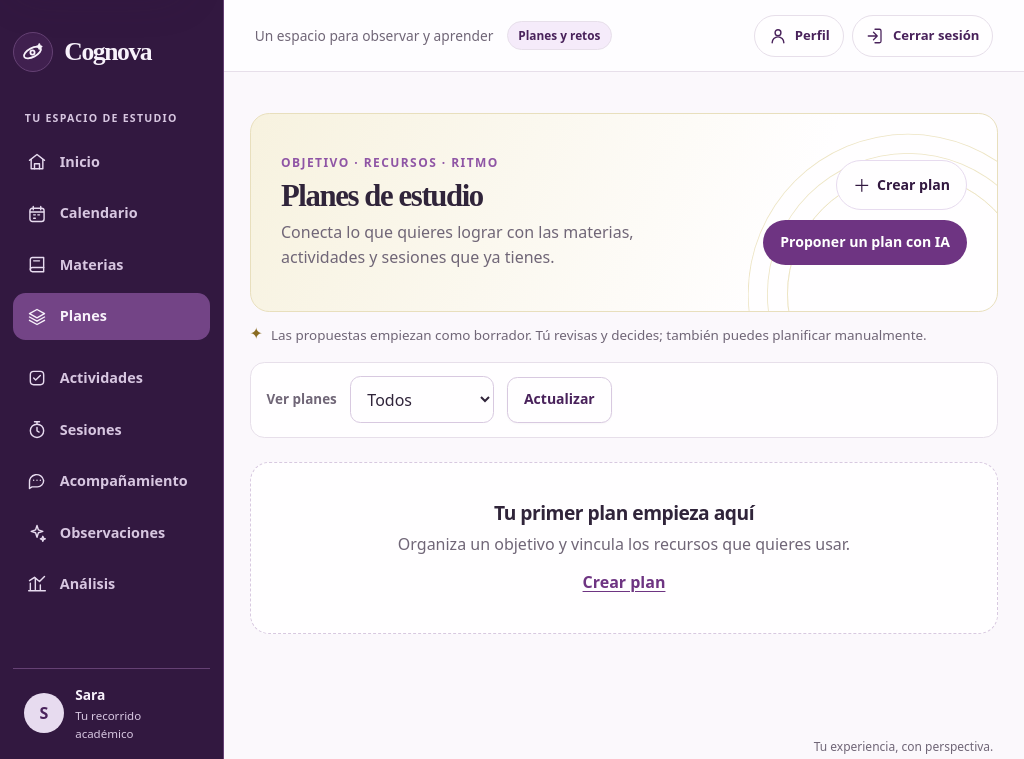
Test: study plans › offers a clear path back from an empty draft filter
The width and height of the screenshot is (1024, 759).
Expected: the heading "Tu primer plan empieza aquí" is shown, [494,499,754,526]
Select "Borrador" in the dropdown labelled "Ver planes" at (422, 400), box [350,376,494,423]
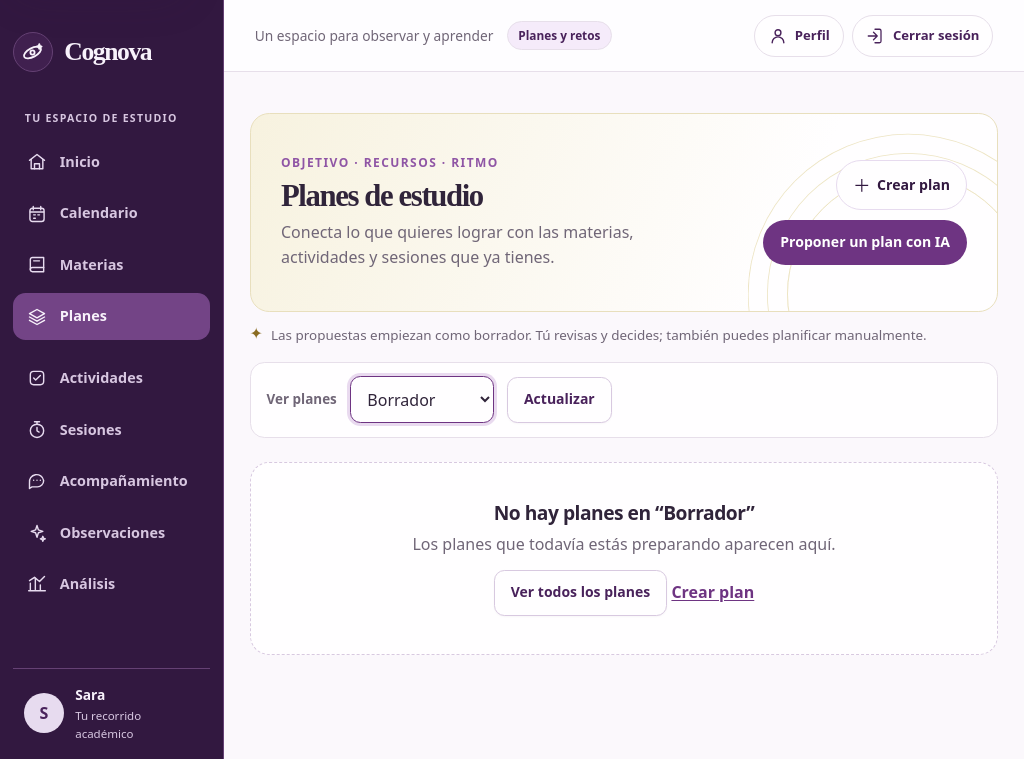
Expected: the text "Los planes que todavía estás preparando aparecen aquí." is shown, [412,533,836,555]
Click the button "Ver todos los planes".
click(580, 592)  # box [494,570,667,616]
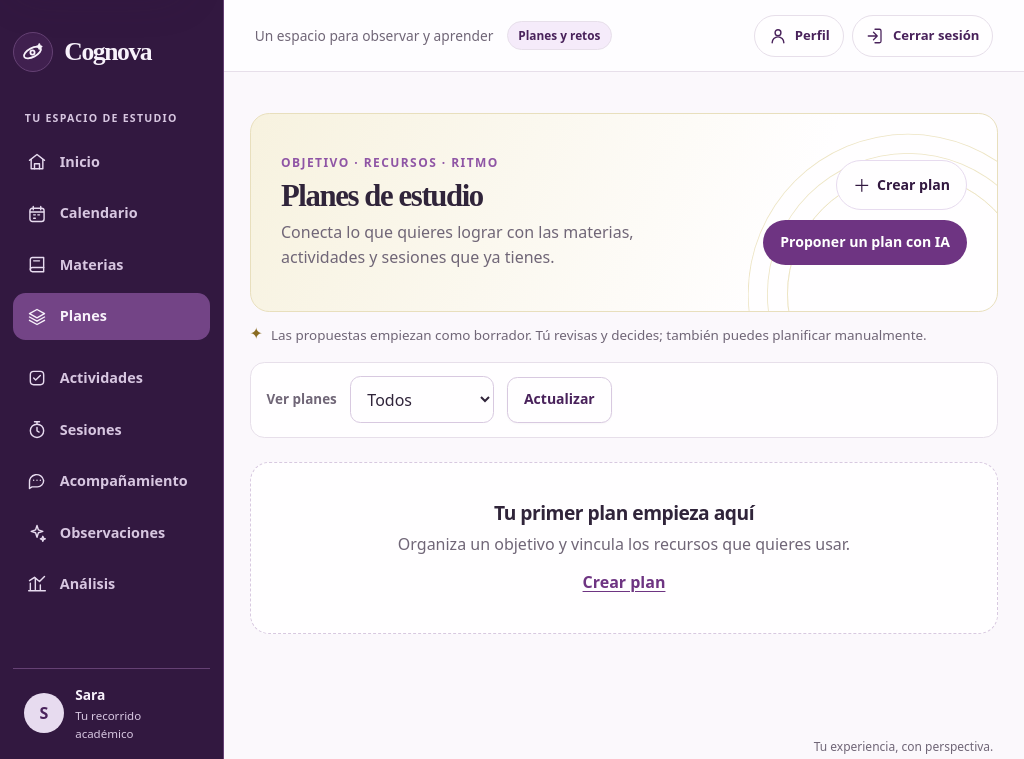
Expected: the heading "Tu primer plan empieza aquí" is shown, [494,499,754,526]
